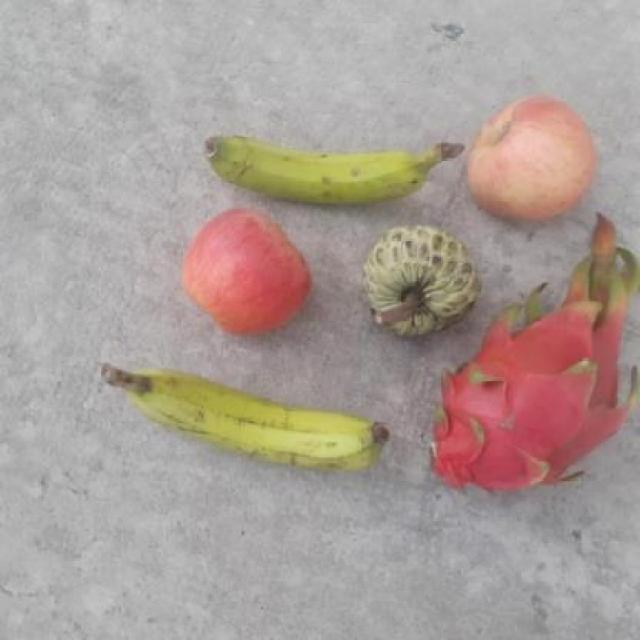apple: (177, 208, 312, 337), (466, 92, 600, 220)
banana: (99, 361, 390, 474), (205, 127, 469, 207)
dragon fruit: (429, 295, 626, 496)
sugar apple: (362, 226, 480, 340)
